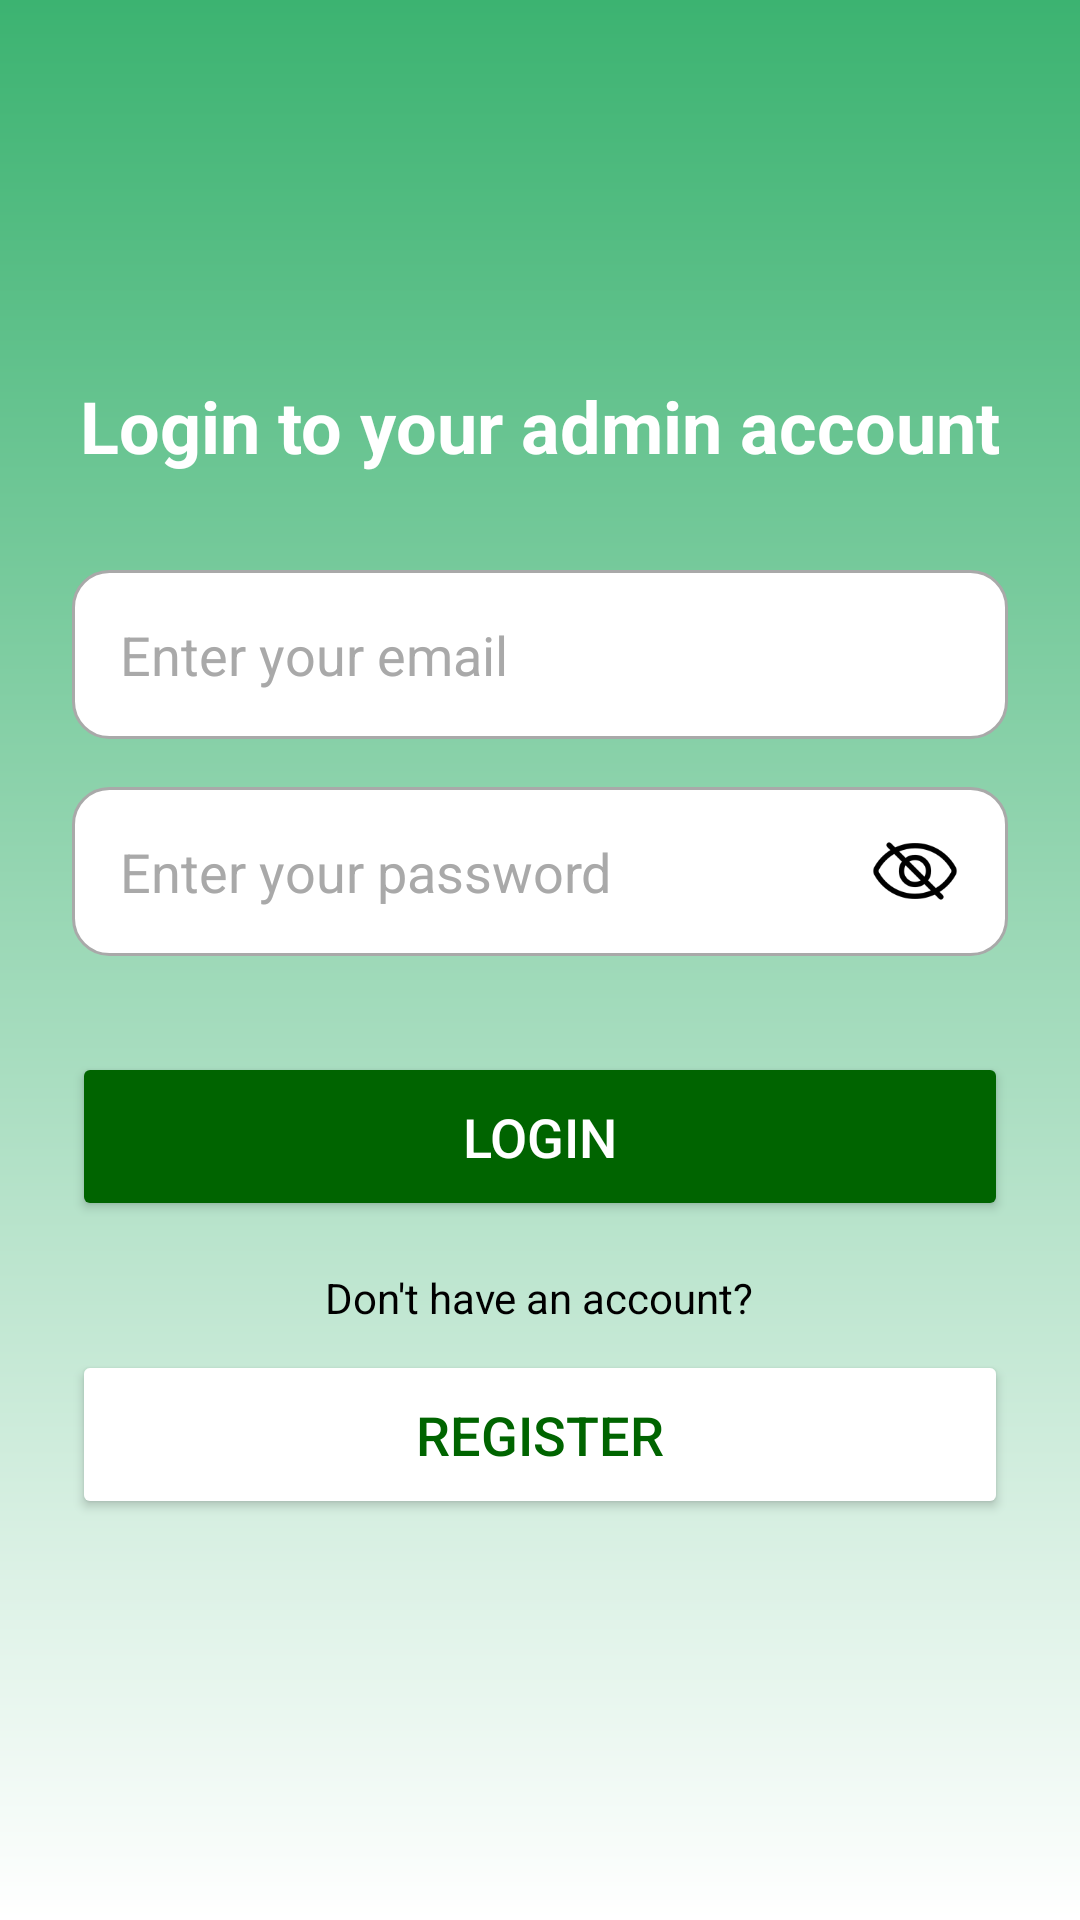

Where to tap for icons on this 1080*1920 app screen, as [x,y]:
Toggle Password Visibility: [915,871]
